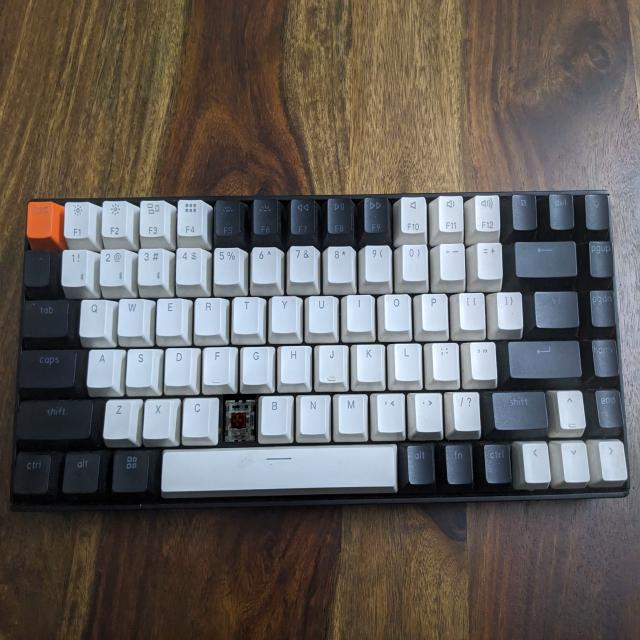C: (223, 394, 256, 441)
